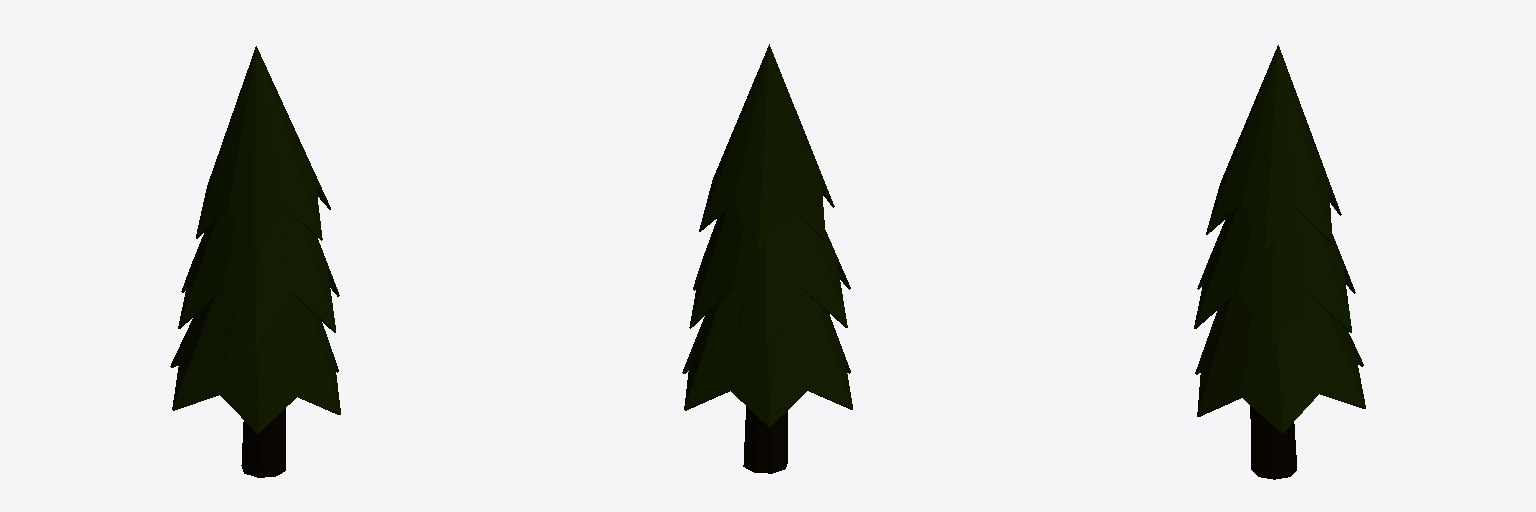
Rendered from dark_pine_tree1.obj.
3 renders of one model, left to right at view 1: azimuth 30°, elevation 25°; view 2: azimuth 150°, elevation 25°; view 3: azimuth 270°, elevation 25°, orthographic.
Visible parts, largest first — view 1: Tree4_3_Cylinder.033; view 2: Tree4_3_Cylinder.033; view 3: Tree4_3_Cylinder.033.
Part boxes in pixels (left/top/right/bottom): Tree4_3_Cylinder.033: left=170, top=46, right=340, bottom=477; Tree4_3_Cylinder.033: left=682, top=44, right=852, bottom=473; Tree4_3_Cylinder.033: left=1194, top=45, right=1365, bottom=479.
Bounding box in the file's own units: 2.48 × 5.93 × 2.19.